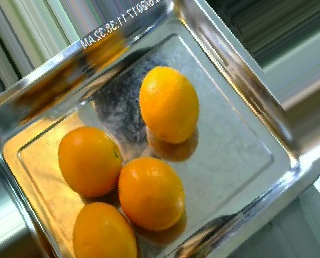Orange: (118, 155, 185, 232), (57, 125, 124, 199), (138, 66, 200, 143)
